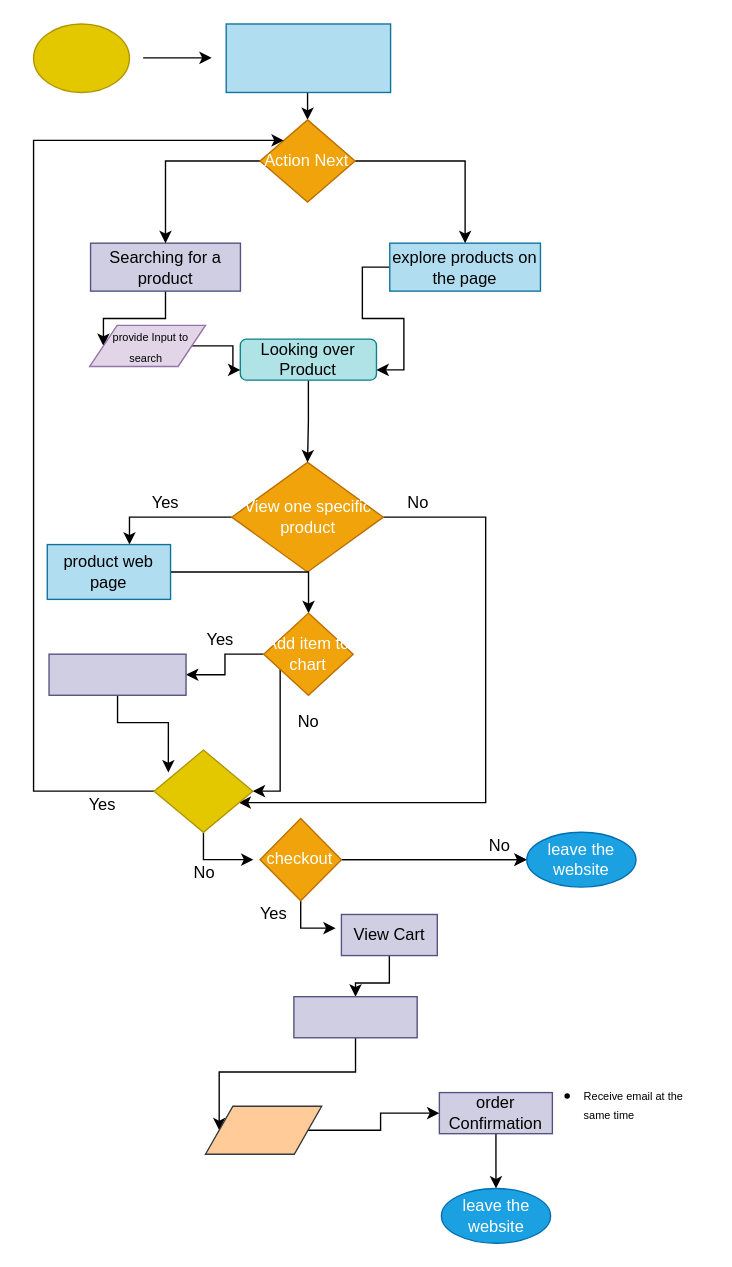
Image size: 732x1267. Some labels were removed from this diagram. The centre of each missing label's shape, as x and y in pixels:
"Add to cart confirmation" belongs at (x=117, y=674).
"Continue shopping" belongs at (x=203, y=790).
"Input payment inforamiton" belongs at (x=263, y=1129).
"Start" belongs at (x=80, y=57).
"View Payment" belongs at (x=354, y=1016).
"Website" belongs at (x=308, y=57).
